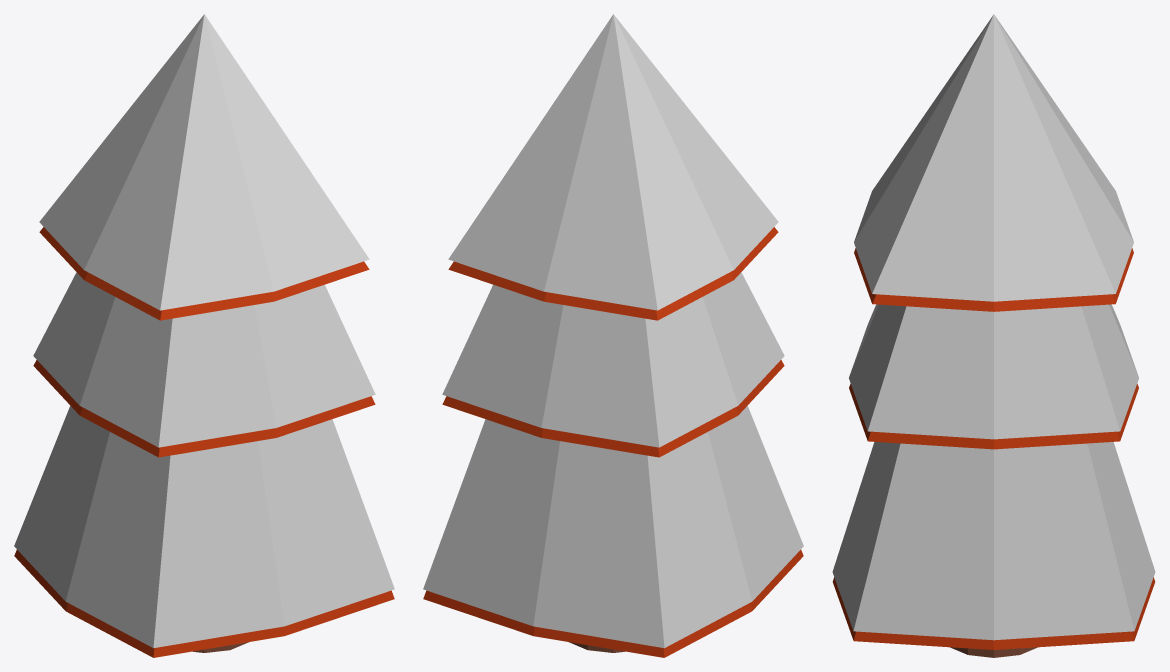
The model's file is Tree_23_winter_red_mat.fbx.
The picture shows the model from 3 angles, left to right: view 1: azimuth 30°, elevation 25°; view 2: azimuth 150°, elevation 25°; view 3: azimuth 270°, elevation 25°; orthographic projection.
Parts seen in each view (by area): view 1: Tree_23_winter_red_mat; view 2: Tree_23_winter_red_mat; view 3: Tree_23_winter_red_mat.
Part boxes in pixels (x1=…): Tree_23_winter_red_mat: x1=14, y1=14, x2=394, y2=657; Tree_23_winter_red_mat: x1=423, y1=14, x2=803, y2=657; Tree_23_winter_red_mat: x1=832, y1=14, x2=1155, y2=657.
Bounding box in the file's own units: 90.18 × 192 × 90.18.
